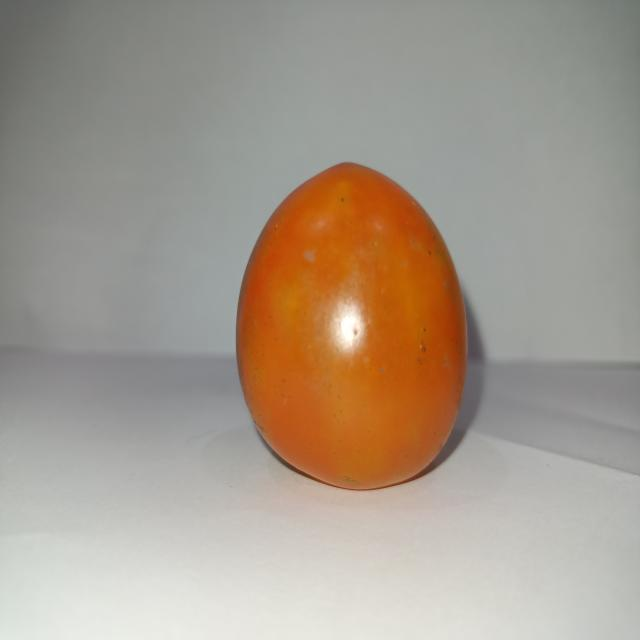Red: (234, 160, 469, 491)
